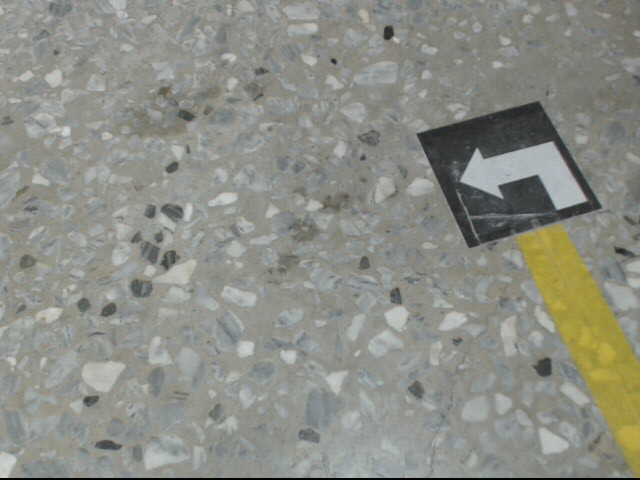left: (415, 102, 602, 248)
